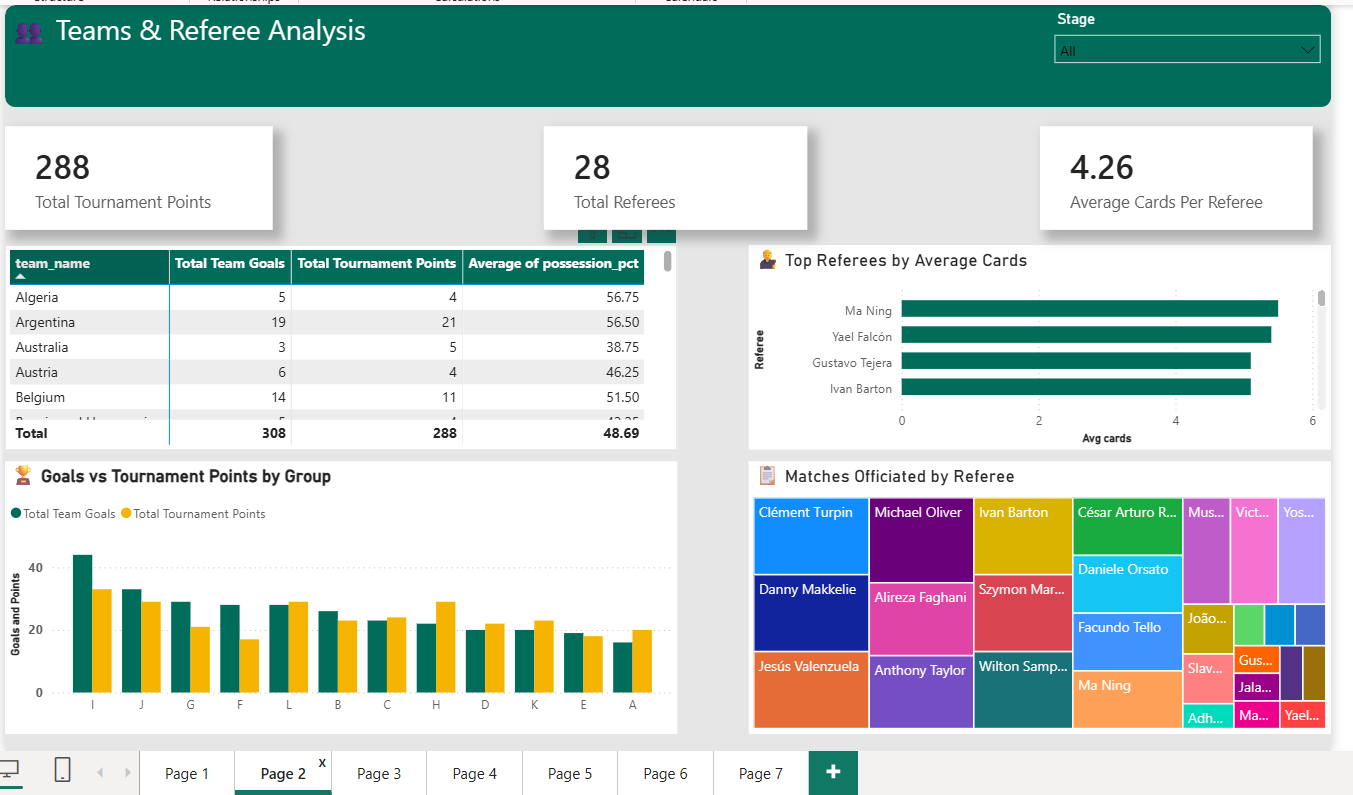

Layout of this report page (visuals, bound fields, positions):
{"tool":"powerbi","page":{"name":"Page 2","canvas":[1280,720],"ordinal":1},"visuals":[{"type":"shape","box":[0,0,1280,98.7],"z":0},{"type":"slicer","fields":{"Values":["tournament_stages.stage_name"]},"box":[1002.6,0,277.4,98.7],"z":1000},{"type":"pivotTable","fields":{"Rows":["teams.team_name"],"Values":["matches.Total Team Goals","matches.Total Tournament Points","Avg(match_team_stats.possession_pct)"]},"box":[0,231.6,649.1,197.9],"z":2000},{"type":"clusteredBarChart","title":"🧑⚖️ Top Referees by Average Cards","fields":{"Category":["referees.name"],"Y":["Avg(referees.avg_cards_per_game)"]},"box":[717.8,231.6,562.2,197.9],"z":3000},{"type":"clusteredColumnChart","title":"🏆 Goals vs Tournament Points by Group","fields":{"Category":["teams.group_letter"],"Y":["matches.Total Team Goals","matches.Total Tournament Points"]},"box":[0,440.4,649.1,263],"z":4000},{"type":"treemap","title":"📋 Matches Officiated by Referee","fields":{"Group":["referees.name"],"Values":["Count(matches.match_id)"]},"box":[717.8,440.4,562.2,263],"z":5000},{"type":"textbox","box":[0,0,410.2,98.7],"z":7000},{"type":"cardVisual","fields":{"Data":["matches.Total Tournament Points"]},"box":[0,117,258.2,100.1],"z":8000},{"type":"cardVisual","fields":{"Data":["referees.Total Referees"]},"box":[520,117,254.6,100.1],"z":9000},{"type":"cardVisual","fields":{"Data":["referees.Average Cards Per Referee"]},"box":[998.9,117,263,100.1],"z":10000}]}

Visuals, with their boxes on the page's 1280x720 design canvas (x1, y1, x2, y2). These are canvas units, not pixel positions in the 1353x795 screenshot, which may show the page scaled, cropped or inside an application window:
shape: box(0, 0, 1280, 99)
slicer - tournament_stages.stage_name: box(1003, 0, 1280, 99)
pivotTable - teams.team_name x matches.Total Team Goals: box(0, 232, 649, 430)
"🧑⚖️ Top Referees by Average Cards" clusteredBarChart: box(718, 232, 1280, 430)
"🏆 Goals vs Tournament Points by Group" clusteredColumnChart: box(0, 440, 649, 703)
"📋 Matches Officiated by Referee" treemap: box(718, 440, 1280, 703)
textbox: box(0, 0, 410, 99)
cardVisual - matches.Total Tournament Points: box(0, 117, 258, 217)
cardVisual - referees.Total Referees: box(520, 117, 775, 217)
cardVisual - referees.Average Cards Per Referee: box(999, 117, 1262, 217)
